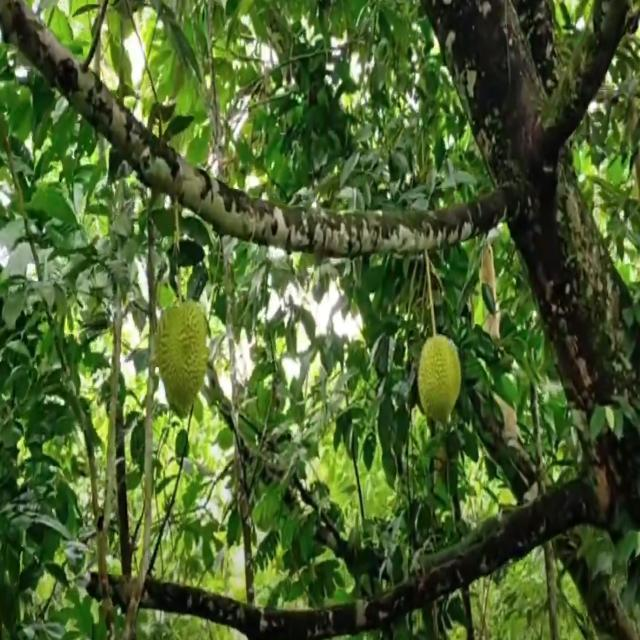immature: (156, 301, 209, 417), (417, 333, 463, 437)
